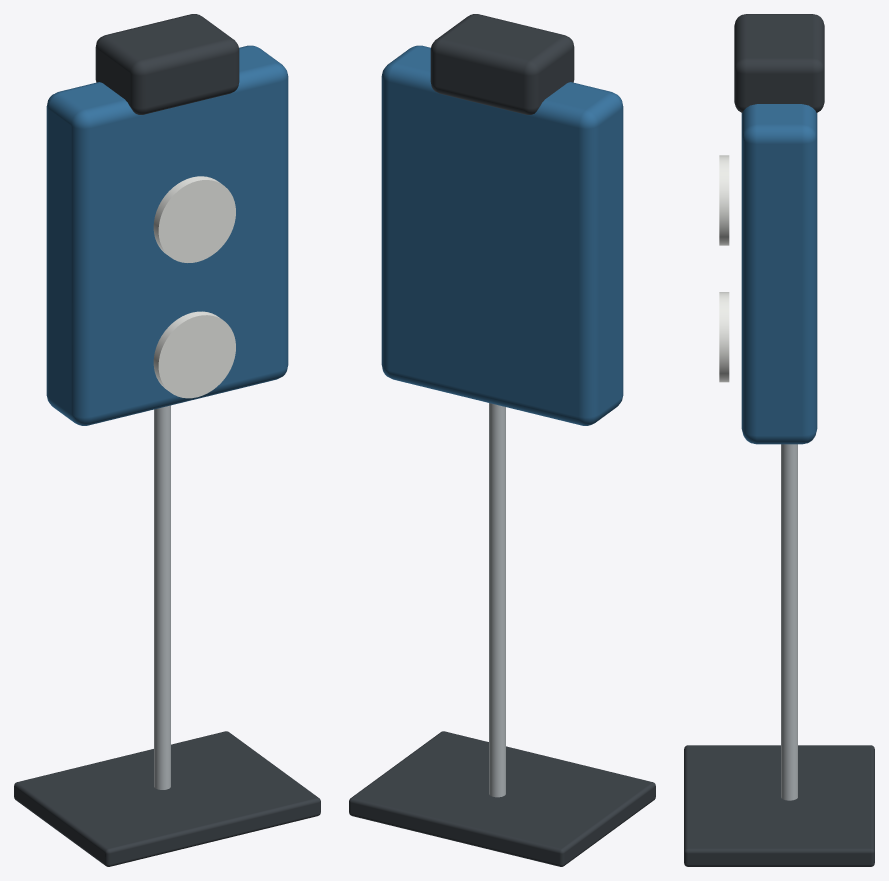
The model's file is fencing-club-and-tournament-piste-training-target-8348bc01__31254.glb.
3 renders of one model, left to right at view 1: azimuth 30°, elevation 25°; view 2: azimuth 150°, elevation 25°; view 3: azimuth 270°, elevation 25°, orthographic.
Parts seen in each view (by area): view 1: training-target; view 2: training-target; view 3: training-target.
Part boxes in pixels (x1=…): training-target: x1=14, y1=14, x2=320, y2=866; training-target: x1=349, y1=14, x2=655, y2=866; training-target: x1=684, y1=14, x2=874, y2=866.
Bounding box in the file's own units: 0.5 × 1.71 × 0.3799.
